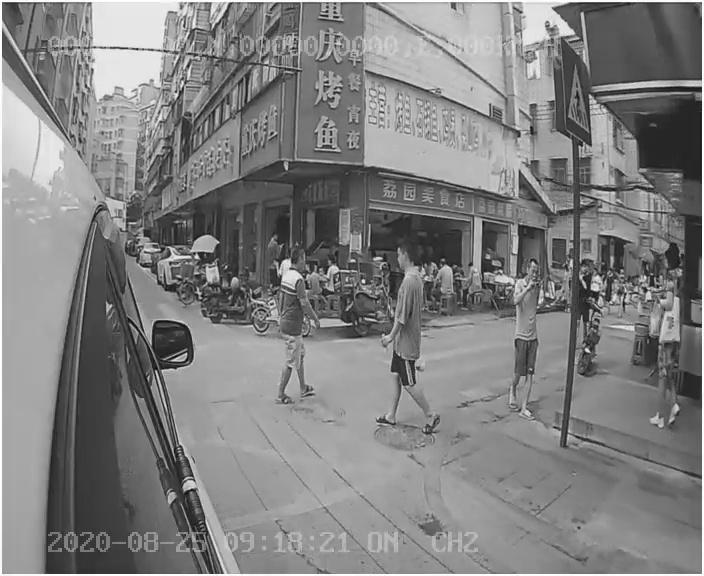person: (261, 248, 326, 402)
